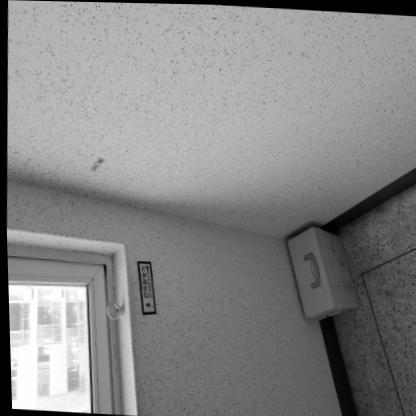DDL: (281, 222, 360, 324)
